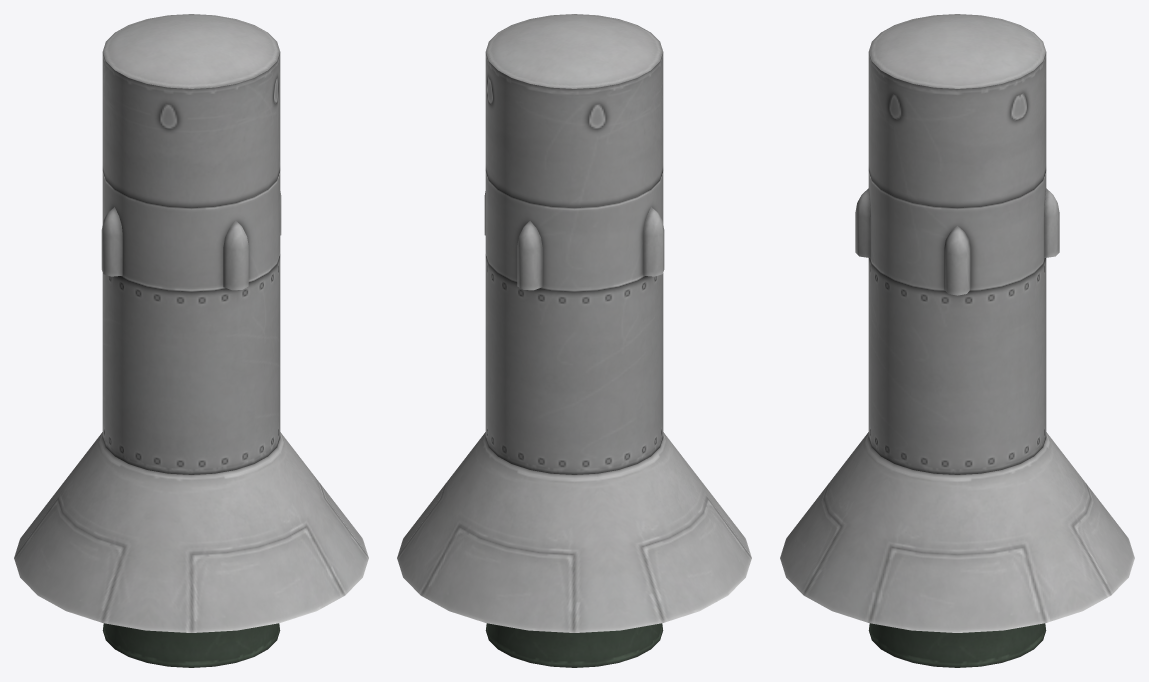
Rendered from alnair_les_s0_1_compact.obj.
3 views of the same model, side by side, from view 1: azimuth 30°, elevation 25°; view 2: azimuth 150°, elevation 25°; view 3: azimuth 270°, elevation 25° (orthographic).
Visible parts, largest first — view 1: mesh1; view 2: mesh1; view 3: mesh1.
Boxes of the visible parts, left/top/right/bottom form: mesh1: left=14, top=14, right=368, bottom=667; mesh1: left=397, top=14, right=751, bottom=667; mesh1: left=780, top=14, right=1134, bottom=667.
Size of the model in its own units: 1 by 1.85 by 1.
Materials: 1 (1 with a texture image).
